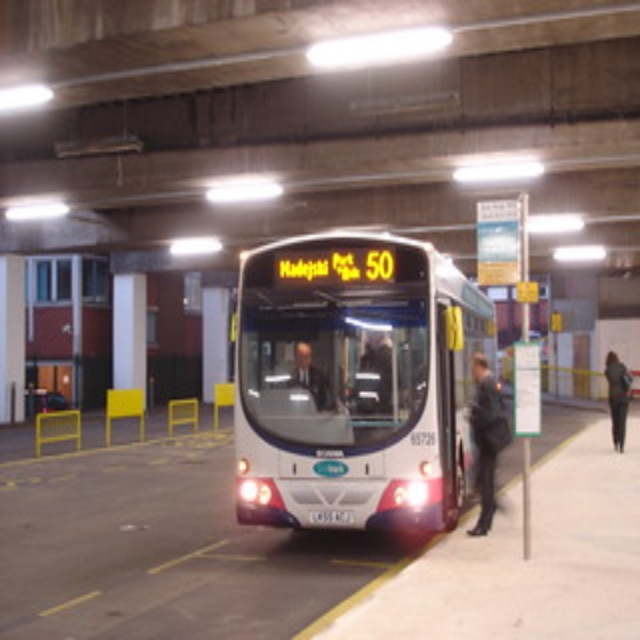Bus: (238, 227, 496, 552)
